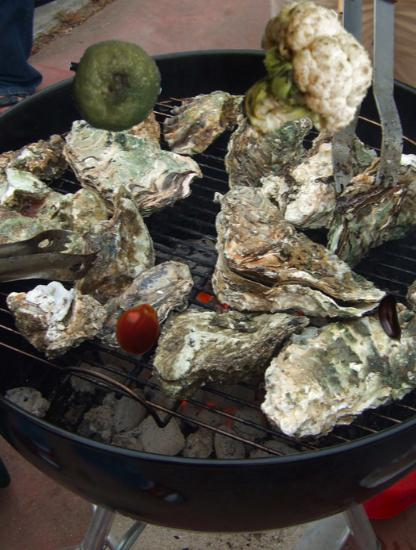Cauliflower: (230, 9, 374, 153)
Eggplant: (364, 294, 416, 346)
Limes: (67, 39, 162, 134)
Tomato: (111, 302, 165, 356)
